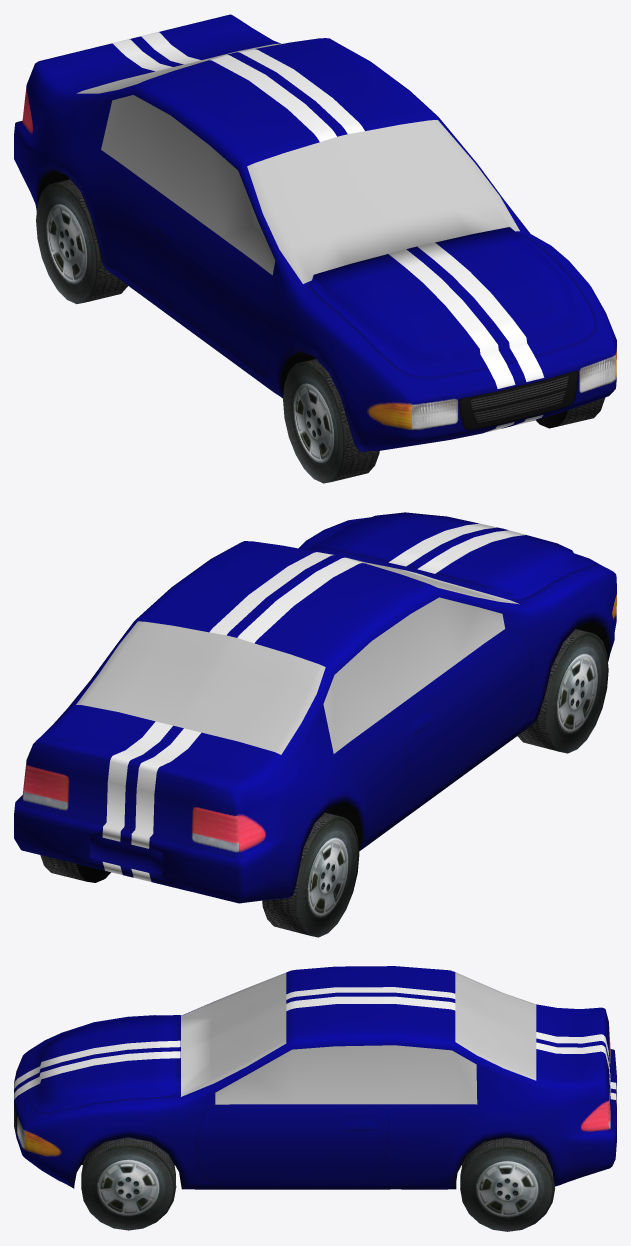
The model's file is mazda_rx8.fbx.
3 renders of one model, top to bottom at view 1: azimuth 30°, elevation 25°; view 2: azimuth 150°, elevation 25°; view 3: azimuth 270°, elevation 25°, orthographic. The views are drawn at different scales.
Visible parts, largest first — view 1: Car_Blue, TireFD, TireRD, TireFP; view 2: Car_Blue, TireRD, TireFD, TireRP; view 3: Car_Blue, TireRP, TireFP.
Boxes of the visible parts, bbox=[...] form: Car_Blue: bbox=[14, 14, 616, 452]; TireFD: bbox=[283, 359, 379, 483]; TireRD: bbox=[36, 179, 127, 304]; TireFP: bbox=[536, 397, 605, 428]; Car_Blue: bbox=[14, 512, 616, 903]; TireRD: bbox=[262, 812, 359, 937]; TireFD: bbox=[517, 629, 608, 753]; TireRP: bbox=[40, 855, 110, 882]; Car_Blue: bbox=[14, 966, 616, 1189]; TireRP: bbox=[460, 1137, 555, 1231]; TireFP: bbox=[81, 1137, 176, 1230].
Size of the model in its own units: 1.87 by 1.67 by 4.8.
